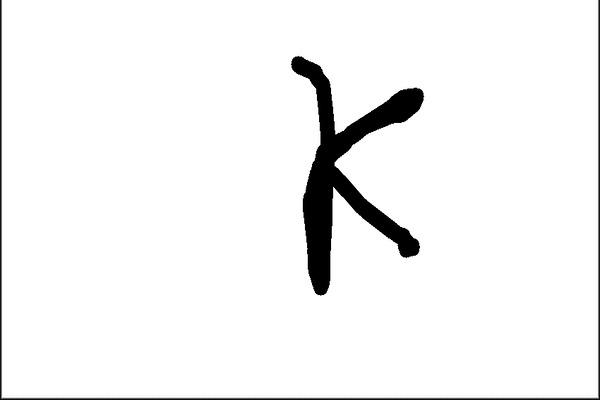K: (283, 49, 429, 301)
